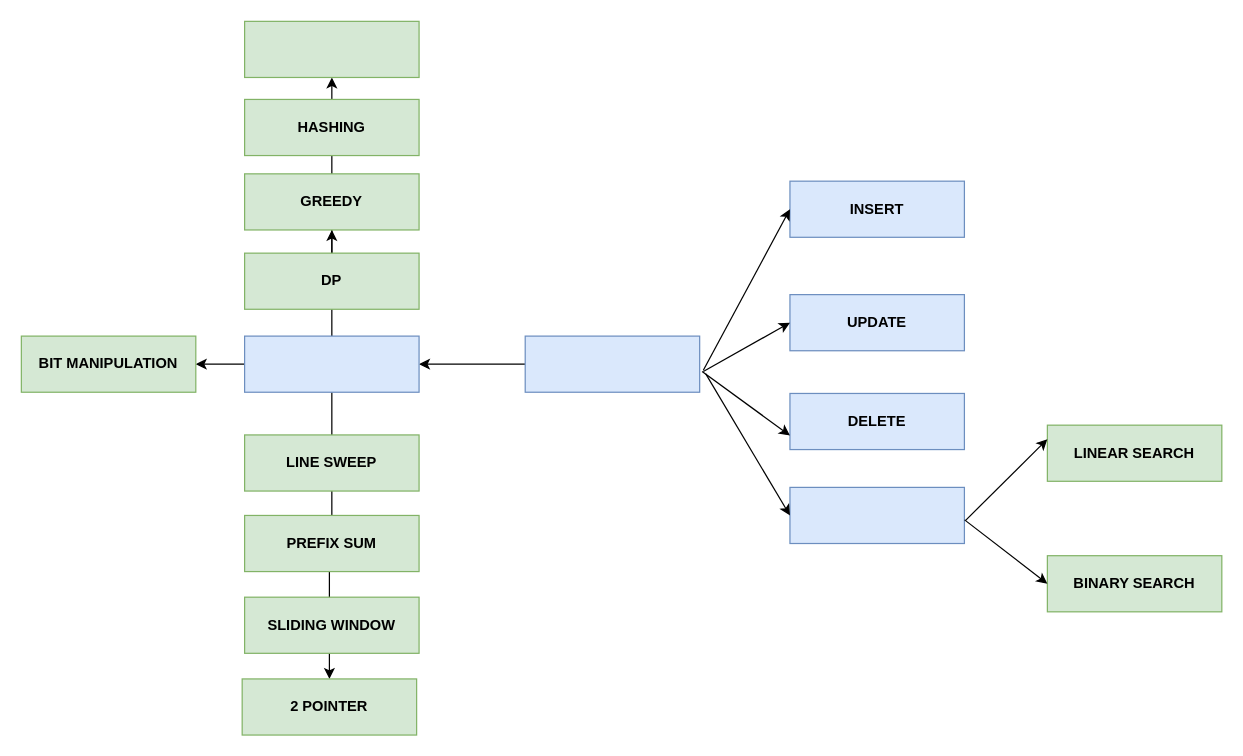
Some shapes in this 1243 by 756 pixel diagram are drawn without their labels. Each missing label, with the centre of its shape:
ARRAYS: [612,363]
CALCULATE: [331,363]
SEARCH: [876,515]
SORTING: [331,48]
